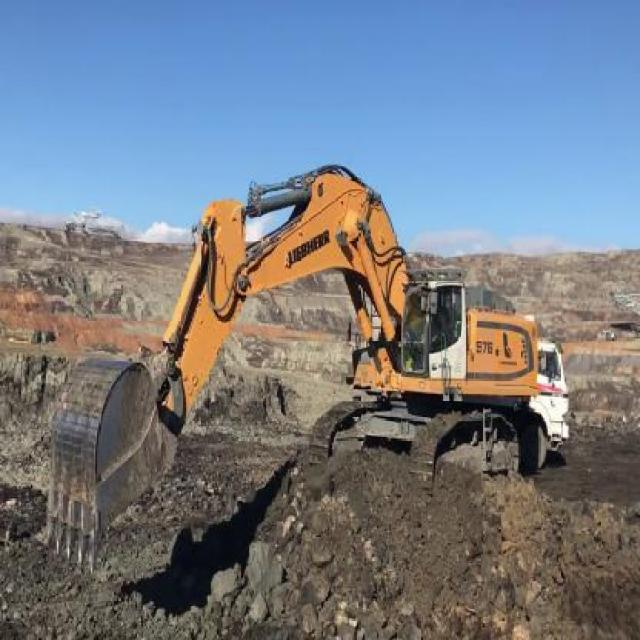Excavator: (37, 160, 548, 562)
